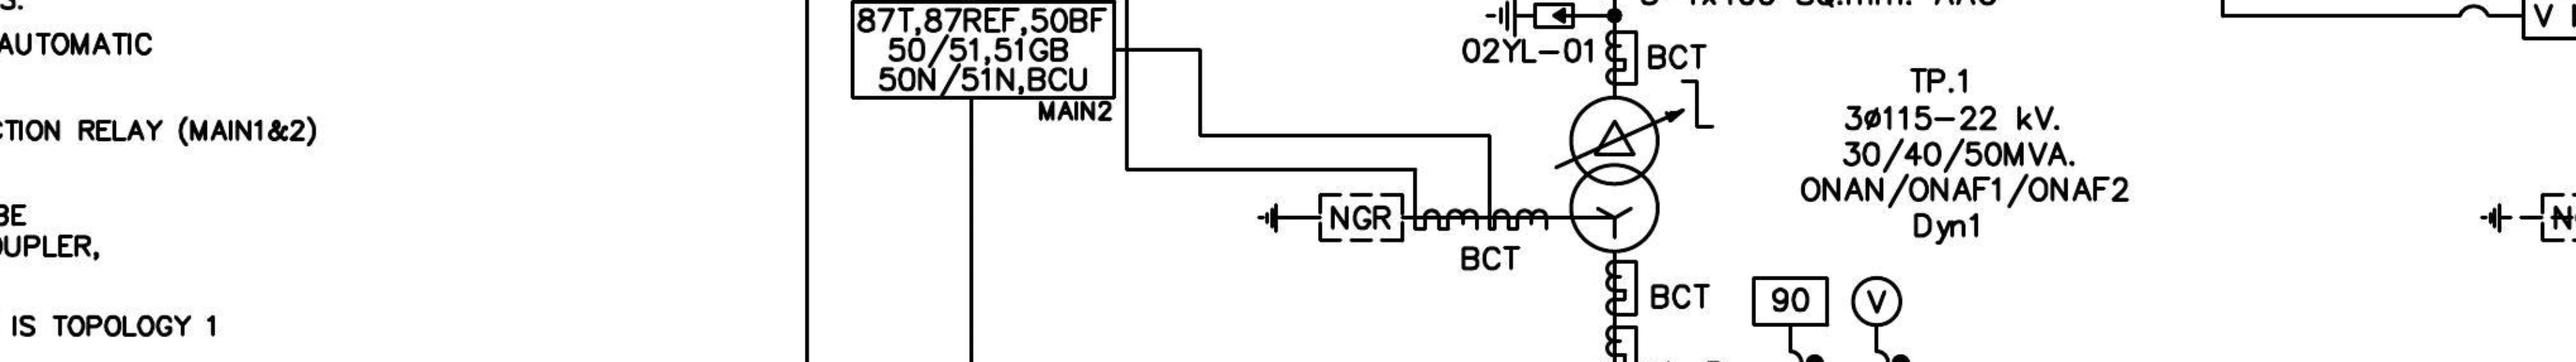11522_tx_dyn1: (1568, 95, 1661, 255)
NGR_future: (1256, 192, 1405, 244)
v_m: (1850, 274, 1904, 328)
